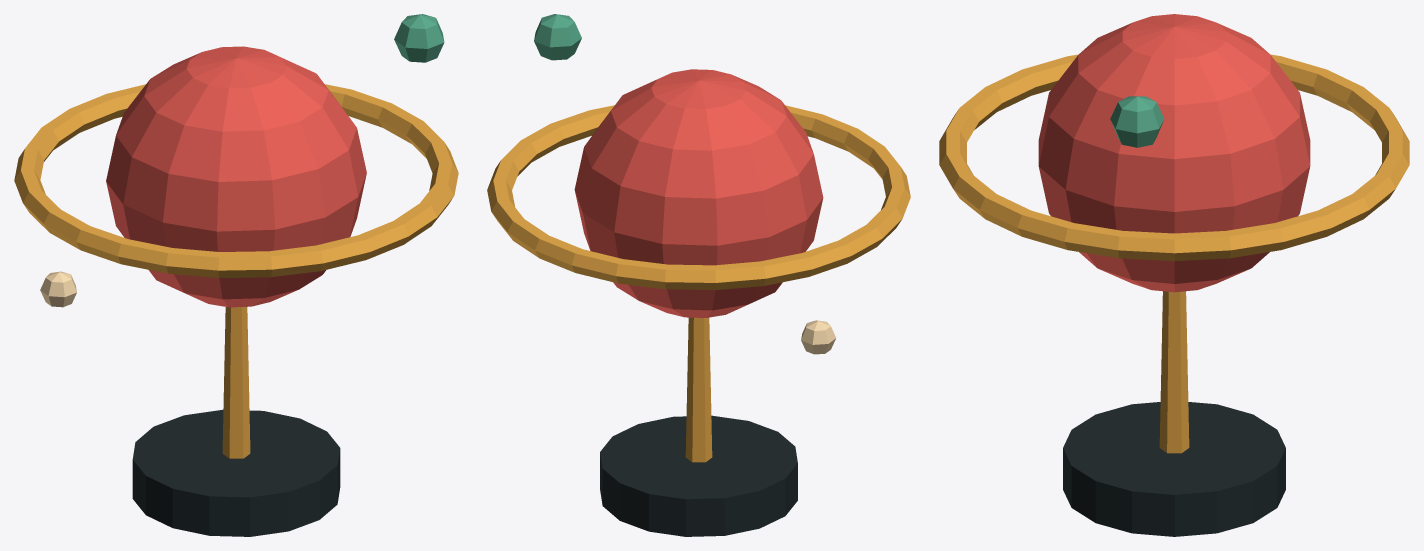
File: ParkParkDecorPlanet.obj
3 views of the same model, side by side, from view 1: azimuth 30°, elevation 25°; view 2: azimuth 150°, elevation 25°; view 3: azimuth 270°, elevation 25° (orthographic). The views are drawn at different scales.
Parts seen in each view (by area): view 1: ParkParkDecorPlanet; view 2: ParkParkDecorPlanet; view 3: ParkParkDecorPlanet.
Boxes of the visible parts, x1=… form: ParkParkDecorPlanet: x1=14, y1=14, x2=458, y2=536; ParkParkDecorPlanet: x1=487, y1=14, x2=910, y2=536; ParkParkDecorPlanet: x1=939, y1=14, x2=1409, y2=536.
Size of the model in its own units: 5.1 by 5.7 by 5.06.
